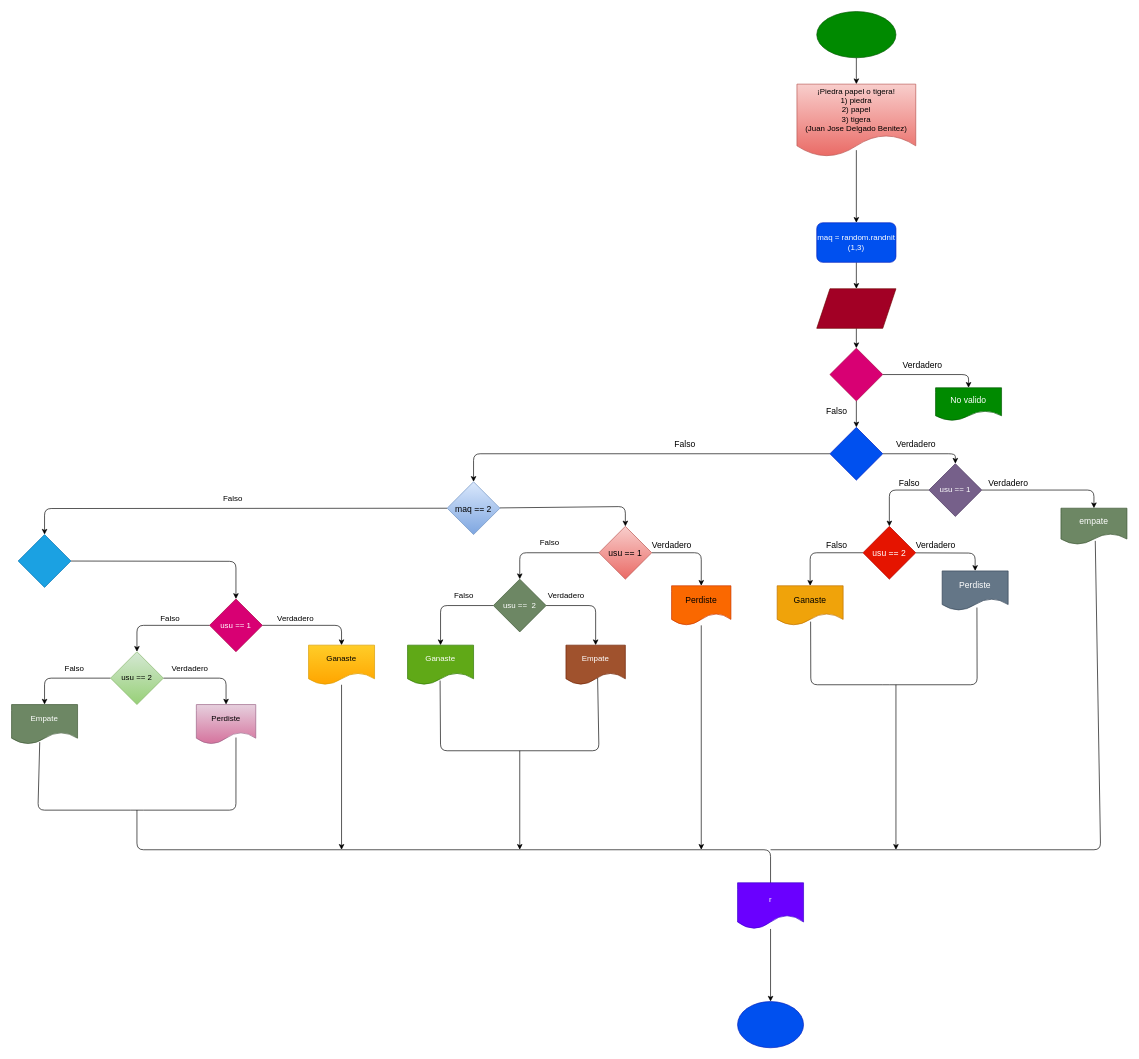
The diagram is 1139 pixels wide and 1059 high, and some of its shapes have lost their labels. Here are the shapes that lost their labels. From the top down, the centre of each, then its label:
At point (856, 34): "Inicio".
At point (856, 308): "USU".
At point (856, 374): "usu<= 3".
At point (856, 453): "maq == 1".
At point (44, 560): "maq == 3".
At point (770, 1024): "Fin".
